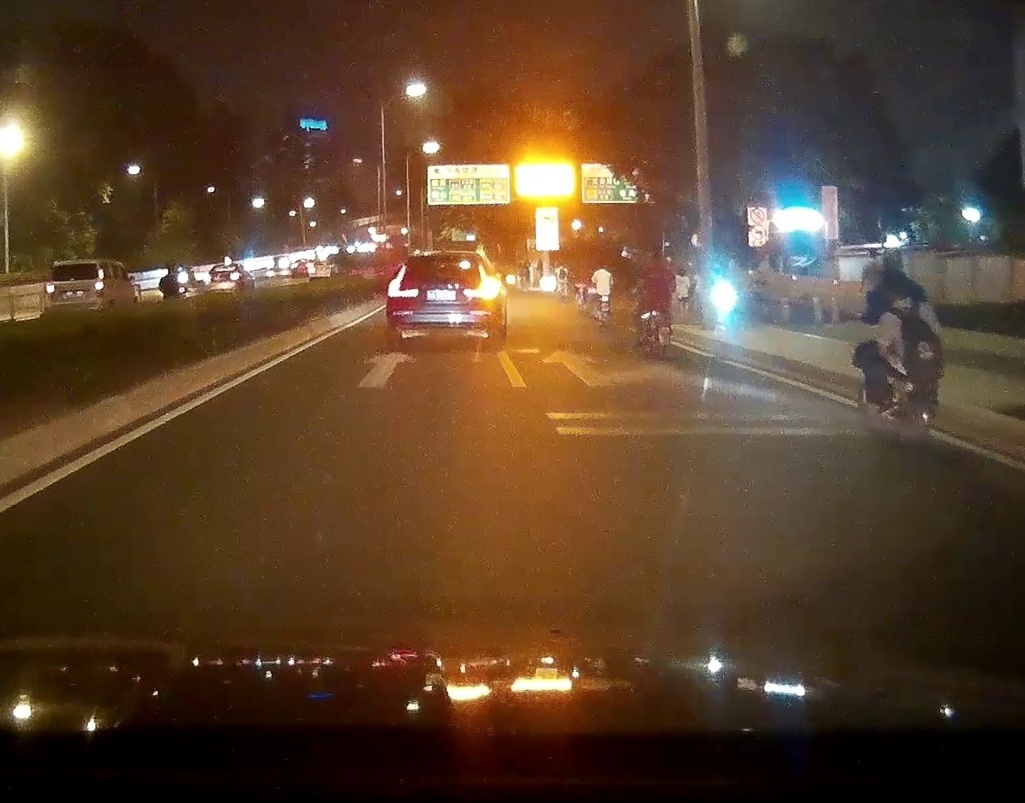L_light: (387, 265, 418, 297), (47, 285, 54, 299)
R_light: (462, 264, 498, 299), (95, 282, 104, 297)
T_light: (435, 255, 453, 260), (69, 263, 79, 267)
night-no: (46, 260, 104, 320)
night-right: (385, 250, 502, 352)
